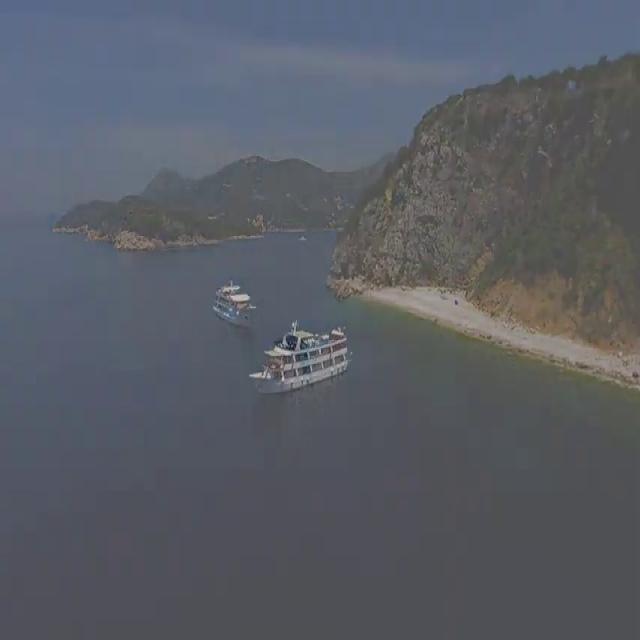passenger ship: (248, 323, 353, 403), (210, 276, 256, 326)
